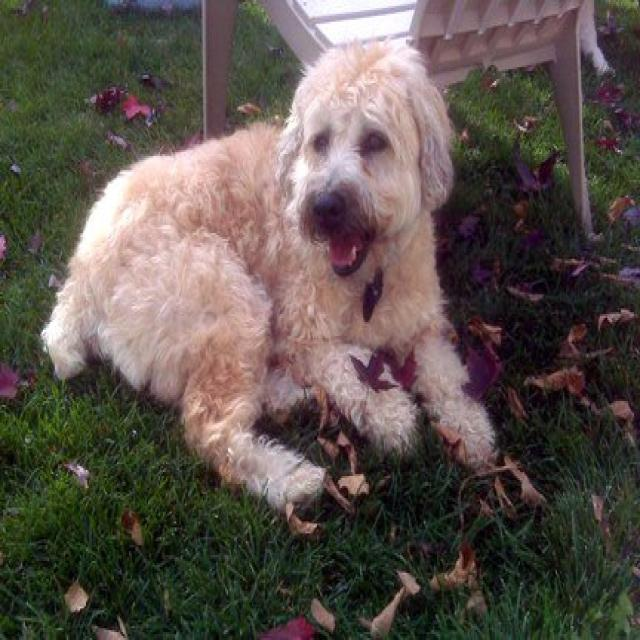dog-wheaten_terrier: (33, 28, 505, 516)
